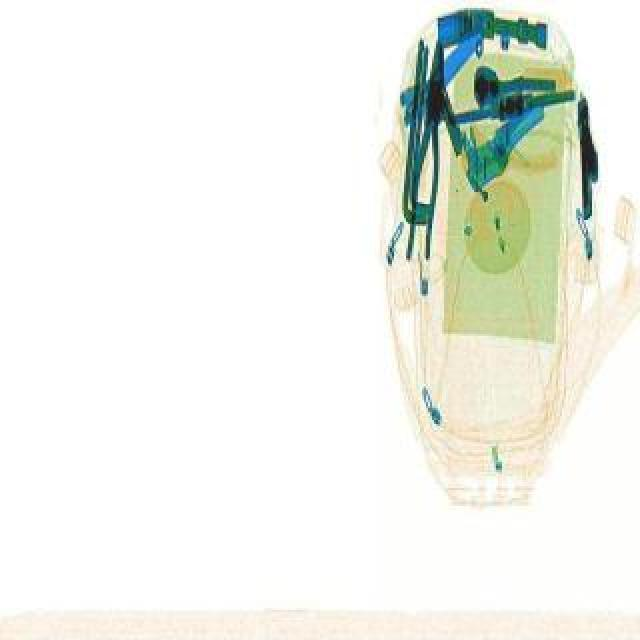gun: (576, 92, 604, 220)
wrench: (406, 34, 458, 260)
